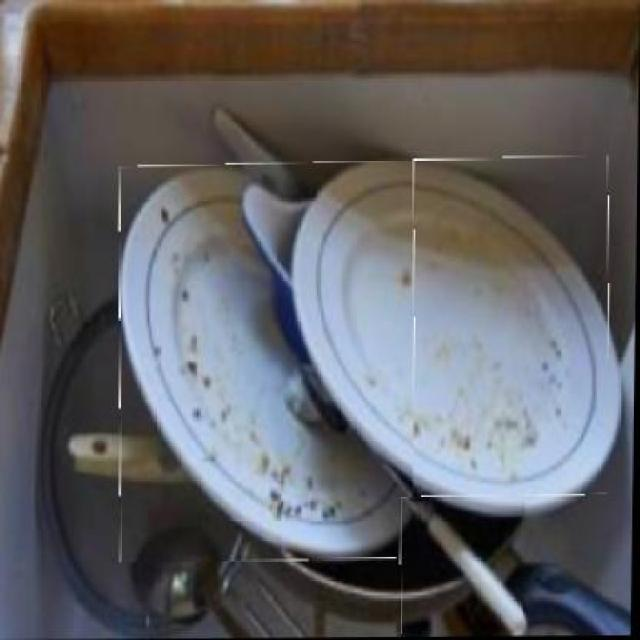Plate: (117, 162, 419, 562), (300, 158, 614, 502)
